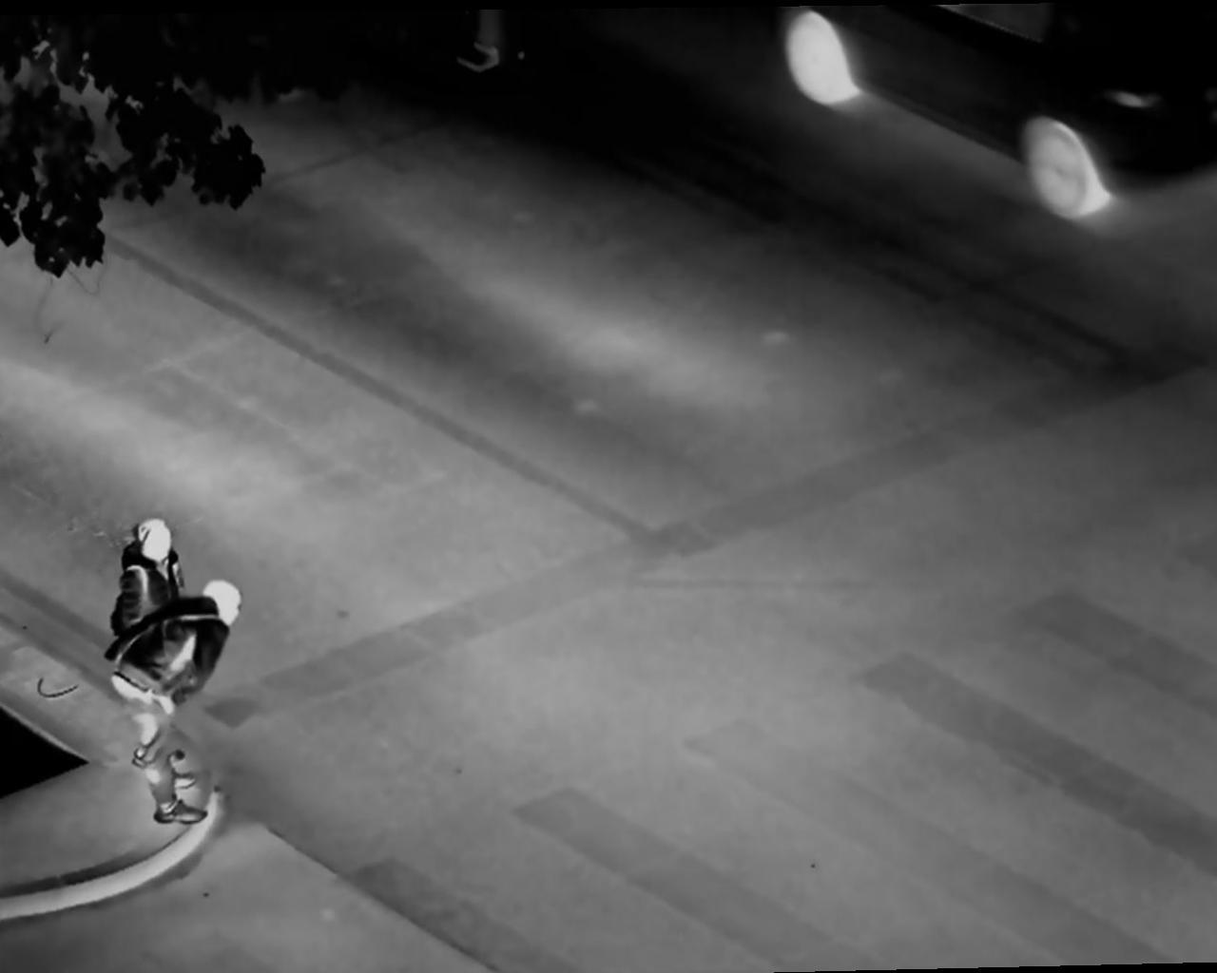person: (109, 581, 252, 819), (106, 519, 193, 772)
